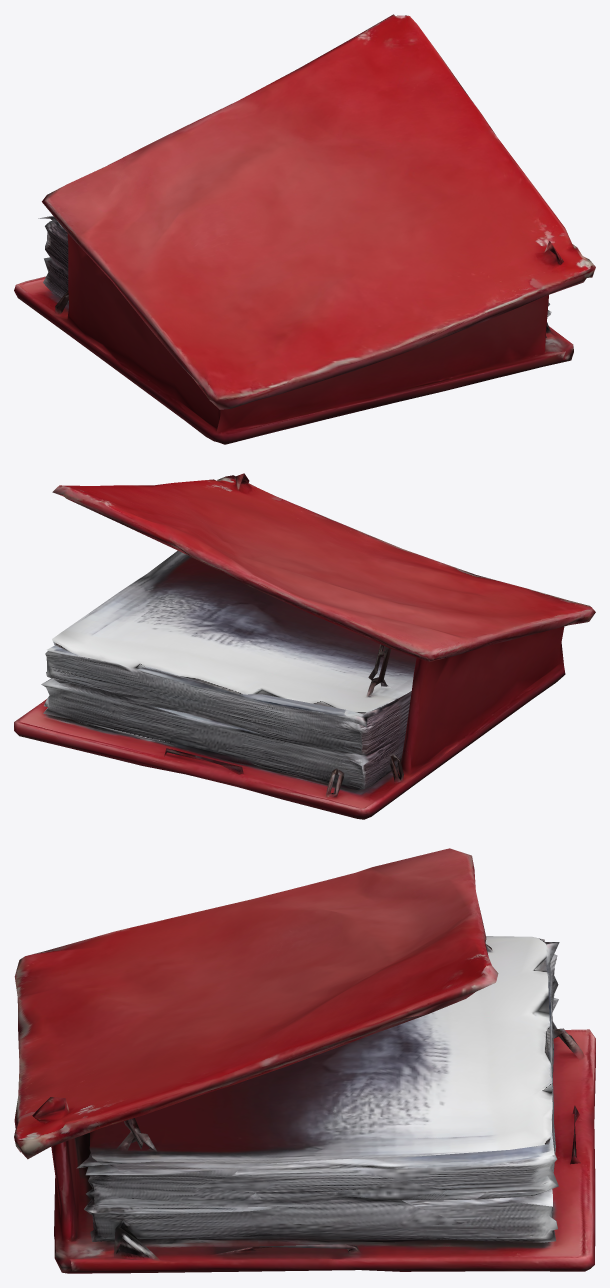
File: binder_manual.fbx
The picture shows the model from 3 angles, top to bottom: view 1: azimuth 30°, elevation 25°; view 2: azimuth 150°, elevation 25°; view 3: azimuth 270°, elevation 25°; orthographic projection. The views are drawn at different scales.
Parts seen in each view (by area): view 1: binder_manual; view 2: binder_manual; view 3: binder_manual.
Part boxes in pixels (bbox=[...]): binder_manual: bbox=[14, 14, 595, 444]; binder_manual: bbox=[14, 473, 595, 819]; binder_manual: bbox=[14, 848, 595, 1273].
Bounding box in the file's own units: 0.3189 × 0.1836 × 0.3201.
Materials: 1 (1 with a texture image).
